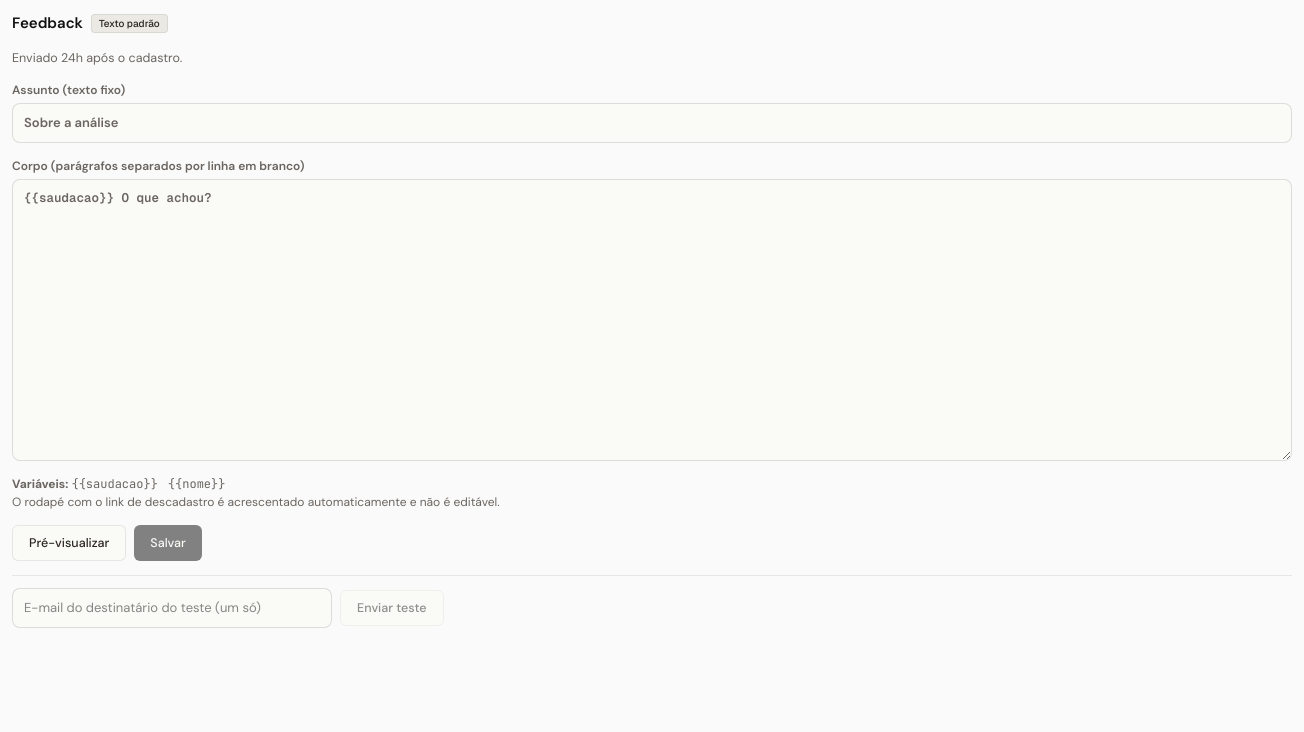
Scenario: TemplateEditor › send-test needs ONE e-mail and saved content (disabled while there are unsaved edits); fake transport says nothing was sent
This screenshot has width=1304, height=732.
Expected: the button "Enviar teste" is disabled, [340,590,444,626]
Type "paulo.alozen@gmail.com" into the field with placeholder "E-mail do destinatário do teste (um só)" at [172, 608], box [12,588,332,628]
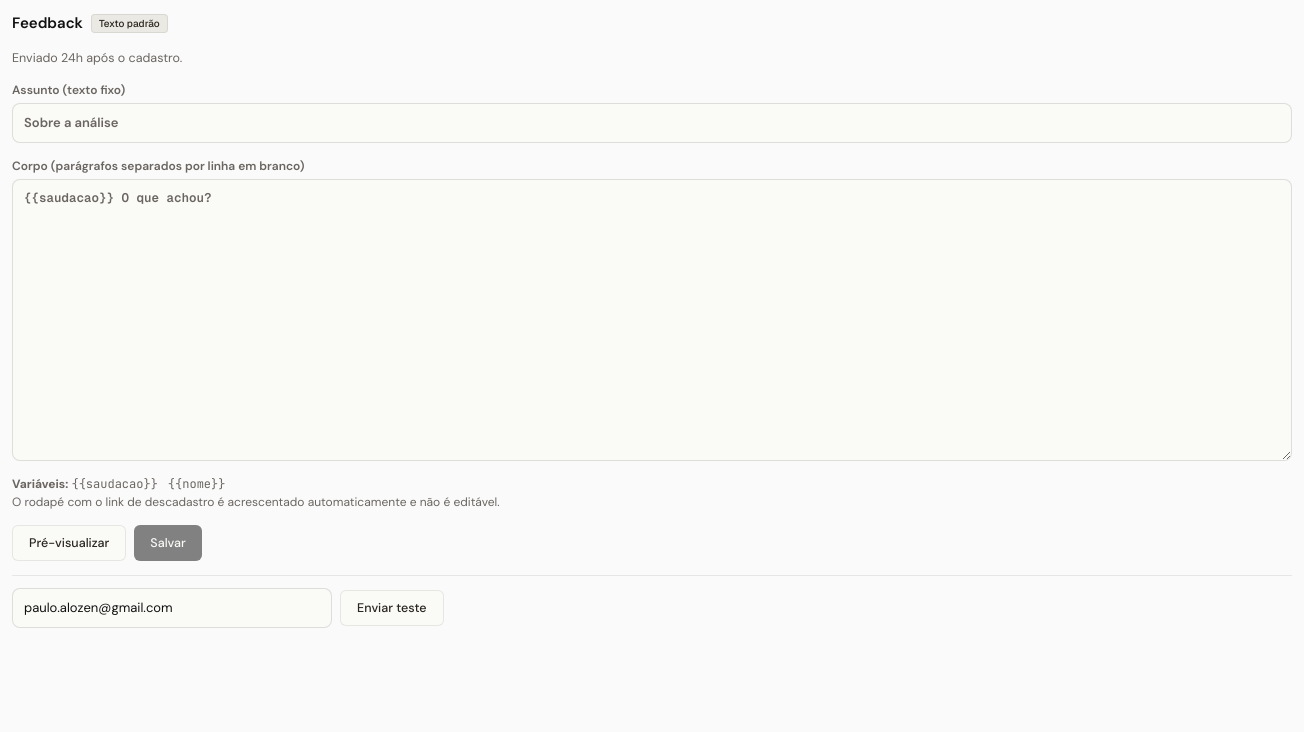
Expected: the button "Enviar teste" is enabled, [340,590,444,626]
Replace the text in the field showing "Sobre a análise" with "Editado agora" at [652, 123], box [12,103,1292,143]
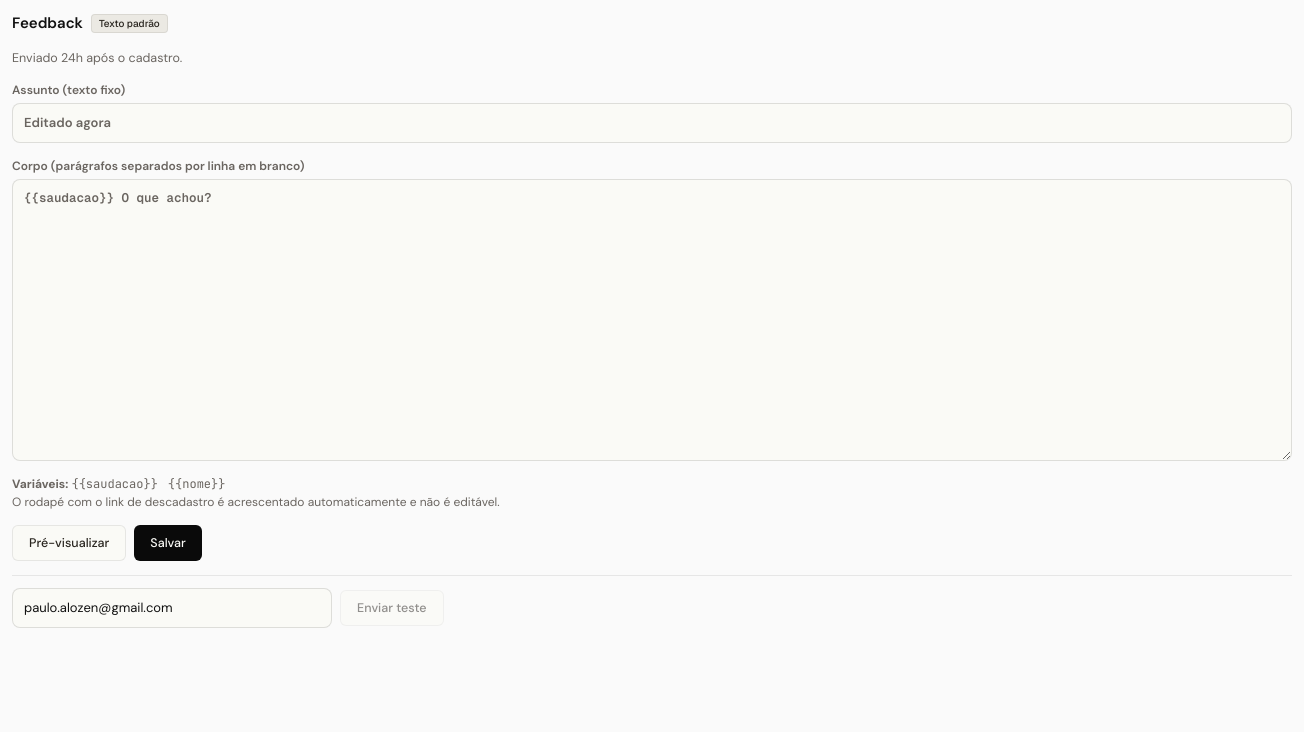
Expected: the button "Enviar teste" is disabled, [340,590,444,626]
Replace the text in the field showing "Editado agora" with "Sobre a análise" at [652, 123], box [12,103,1292,143]
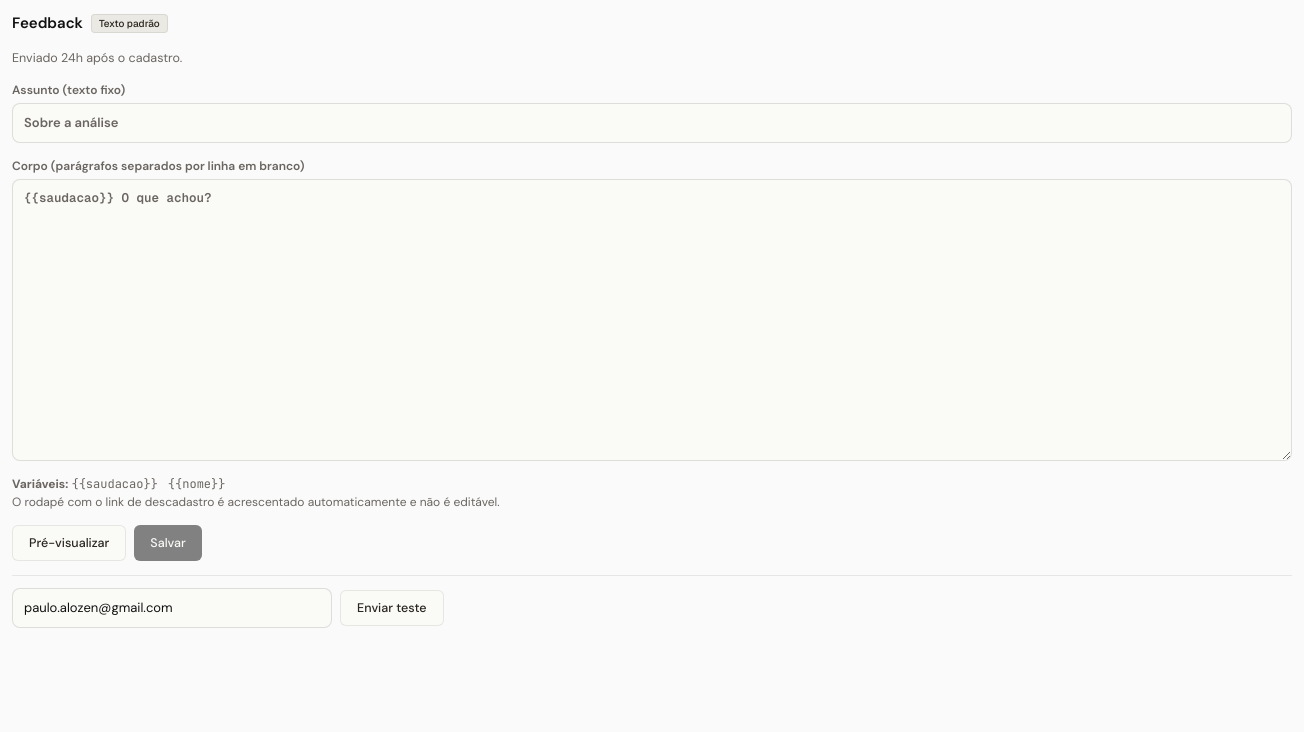
Expected: the button "Enviar teste" is enabled
Click the button "Enviar teste" at [392, 608], box [340,590,444,626]
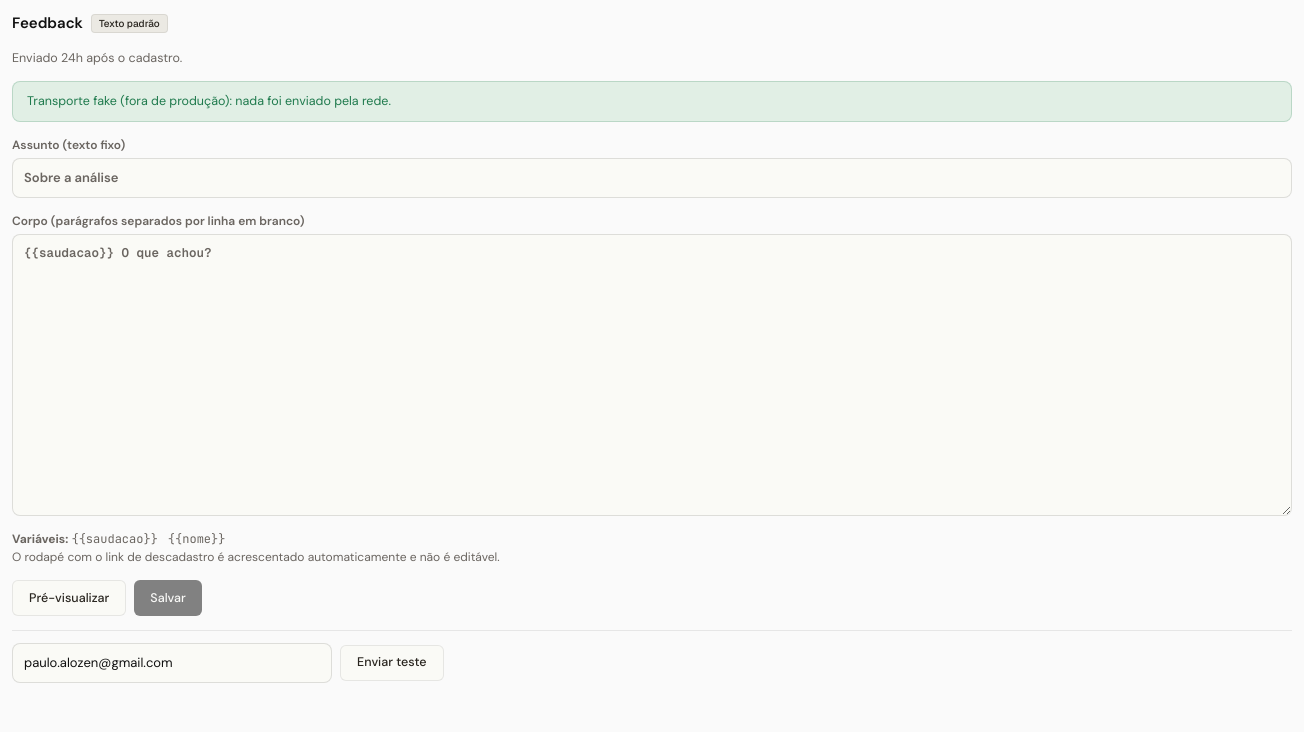
Expected: the message reads "Transporte fake (fora de produção): nada foi enviado pela rede.", [27,93,391,109]
